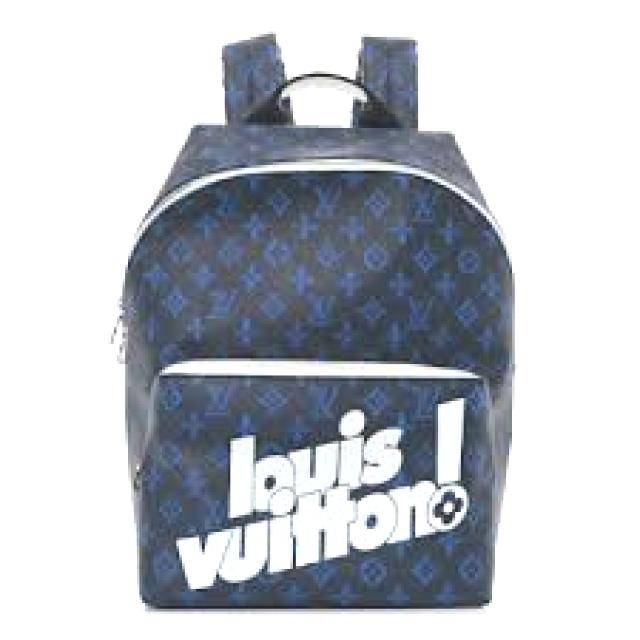backpack: (109, 30, 516, 610)
